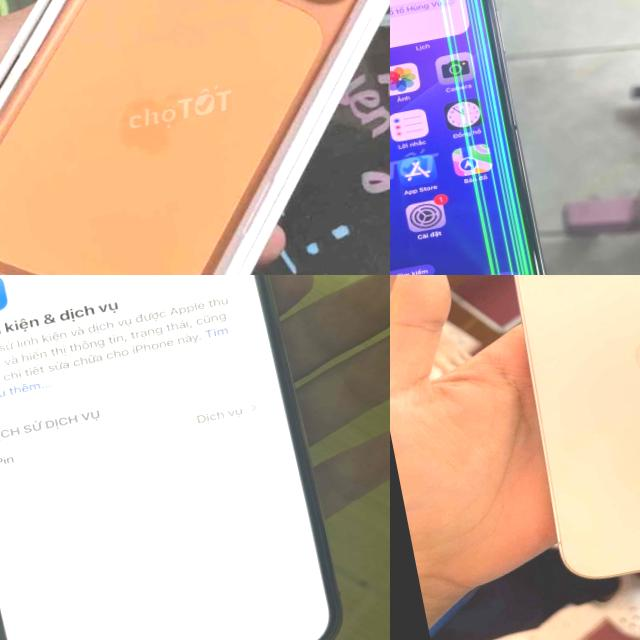gen_12_13: (471, 275, 640, 601)
gen_14: (0, 275, 363, 640)
gen_17: (0, 0, 390, 275)
gen_x_xs: (390, 0, 565, 275)
screen_defect: (428, 14, 509, 65), (452, 106, 518, 162), (472, 218, 546, 266), (444, 70, 515, 118), (463, 180, 530, 230), (444, 48, 522, 82), (414, 0, 495, 30), (462, 152, 528, 188), (479, 254, 555, 275)
